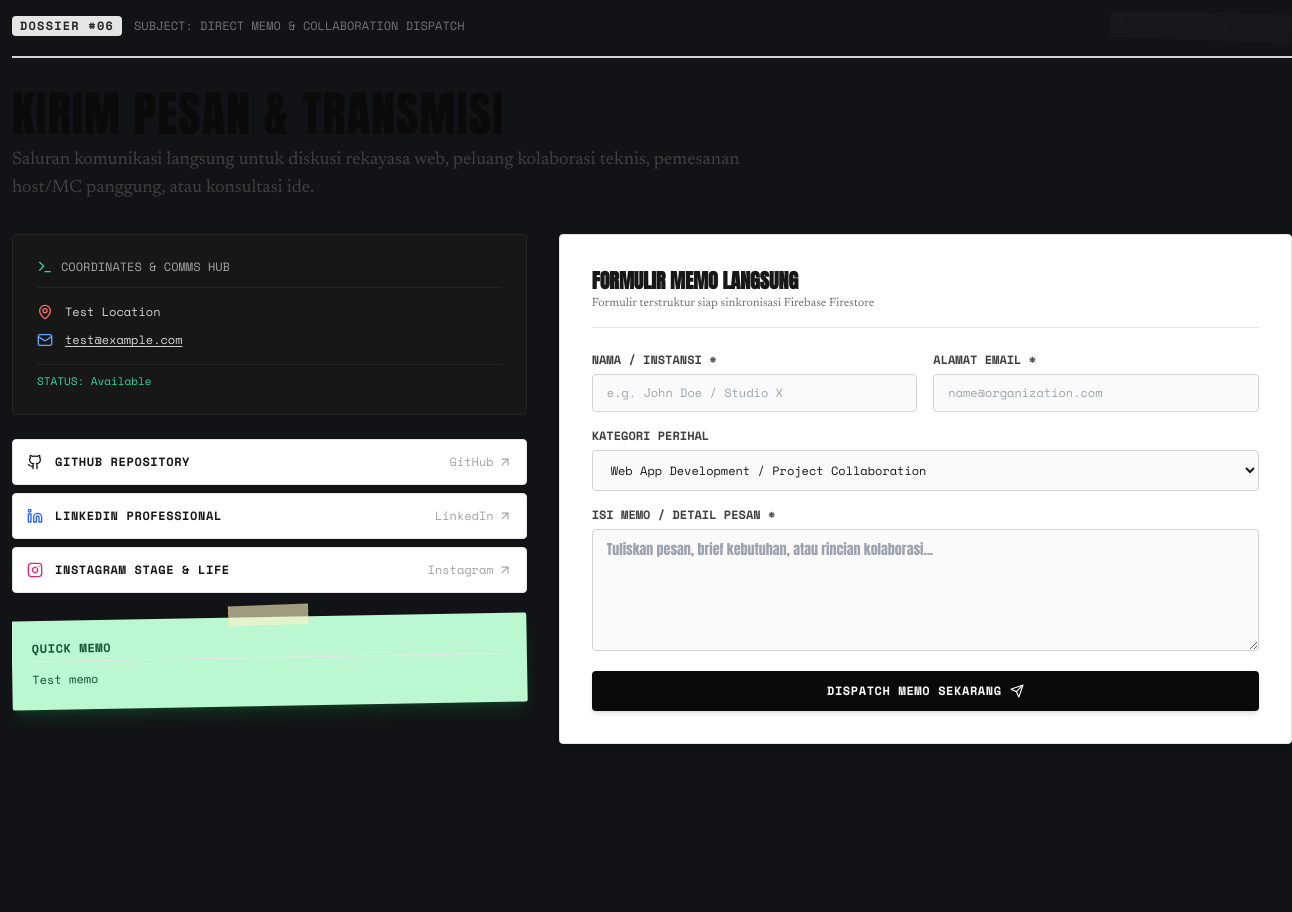
ContactSection › displays API error message when submission fails gracefully
# Fill out the form
In the field labelled "Nama / Instansi *": coordinates (755, 393) [592, 374, 917, 412], type "Test User"
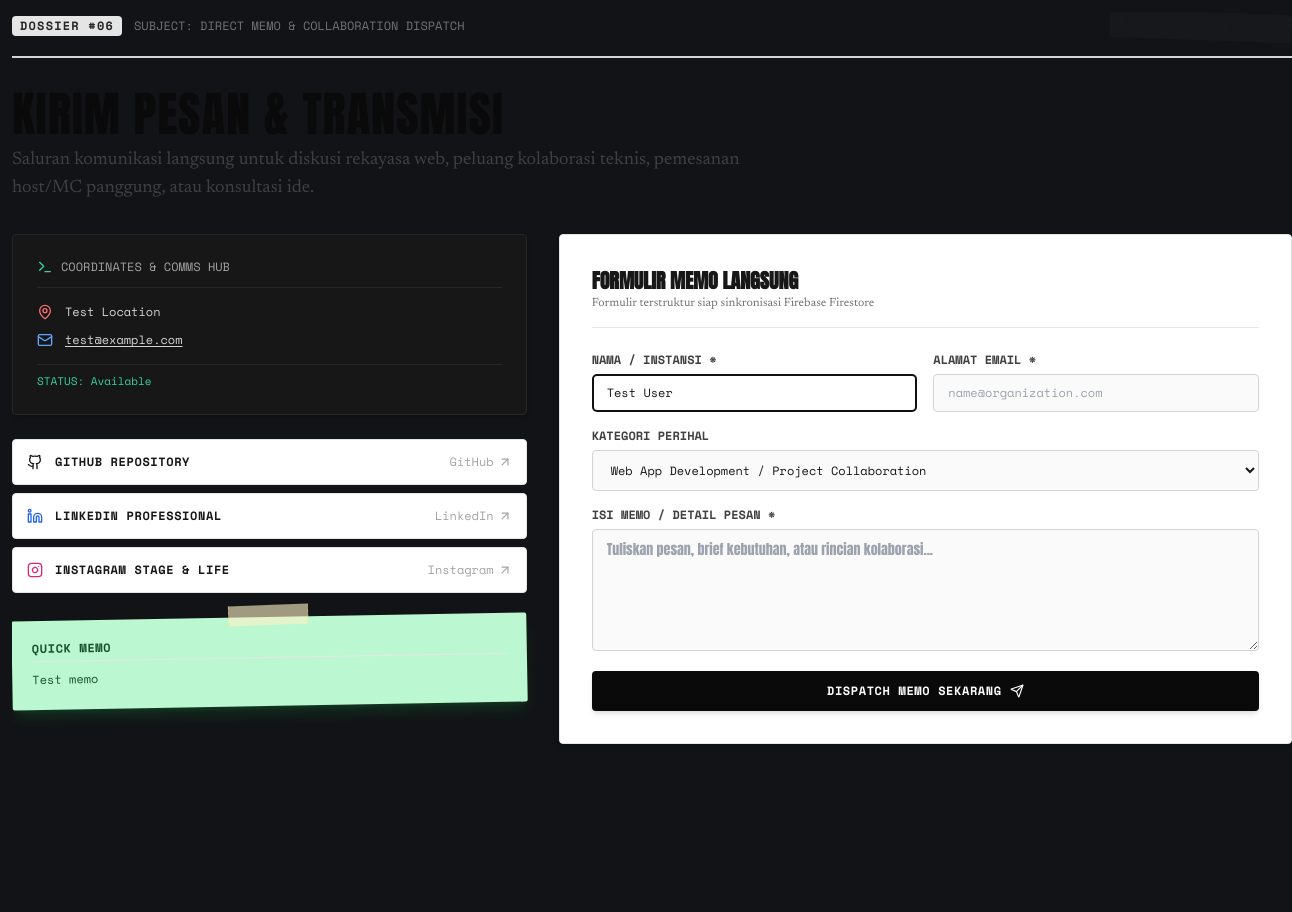
In the field labelled "Alamat Email *": coordinates (1096, 393) [933, 374, 1259, 412], type "user@test.com"
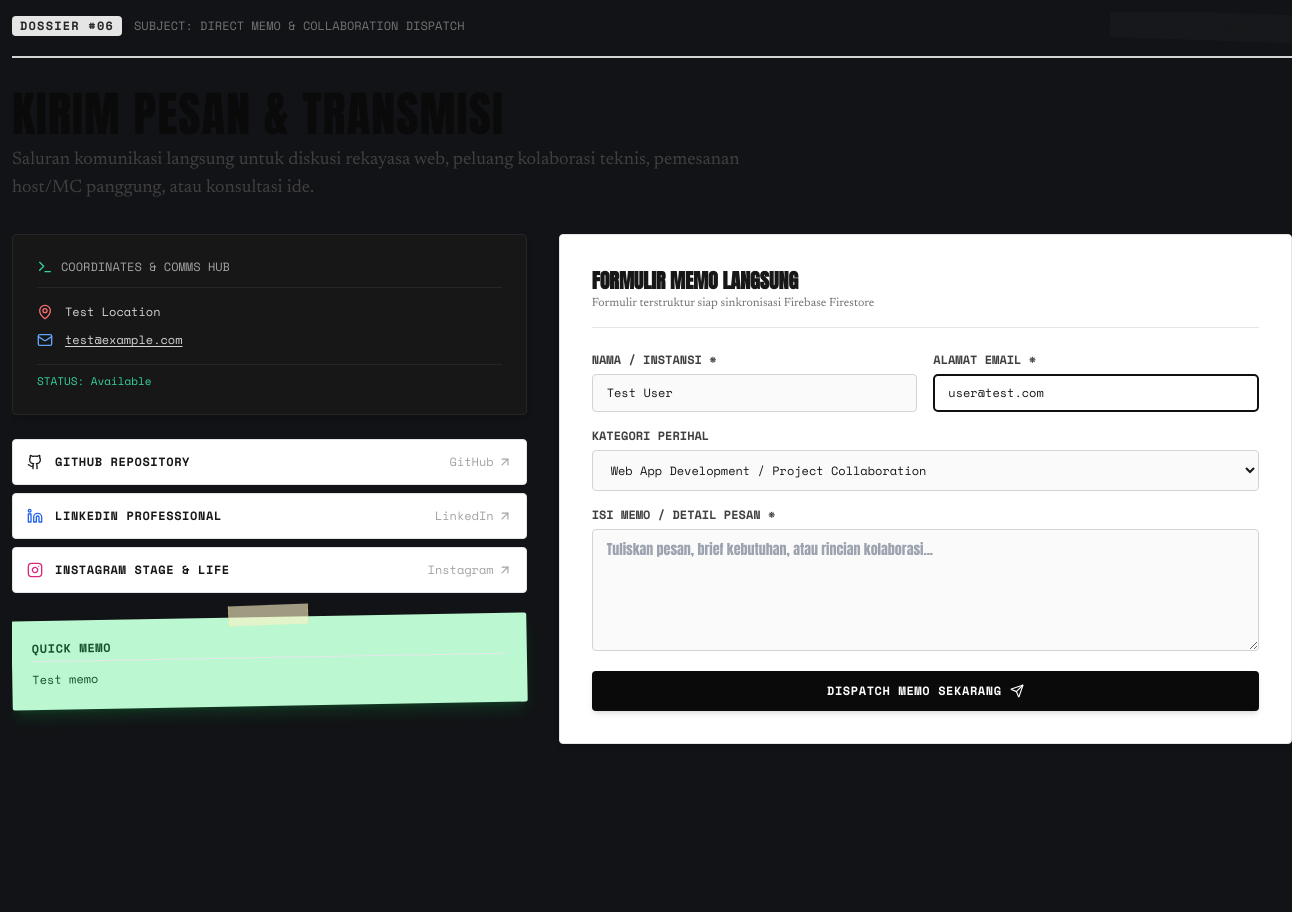
In the text box labelled "Isi Memo / Detail Pesan *": coordinates (925, 590) [592, 529, 1259, 651], type "This is a test message"
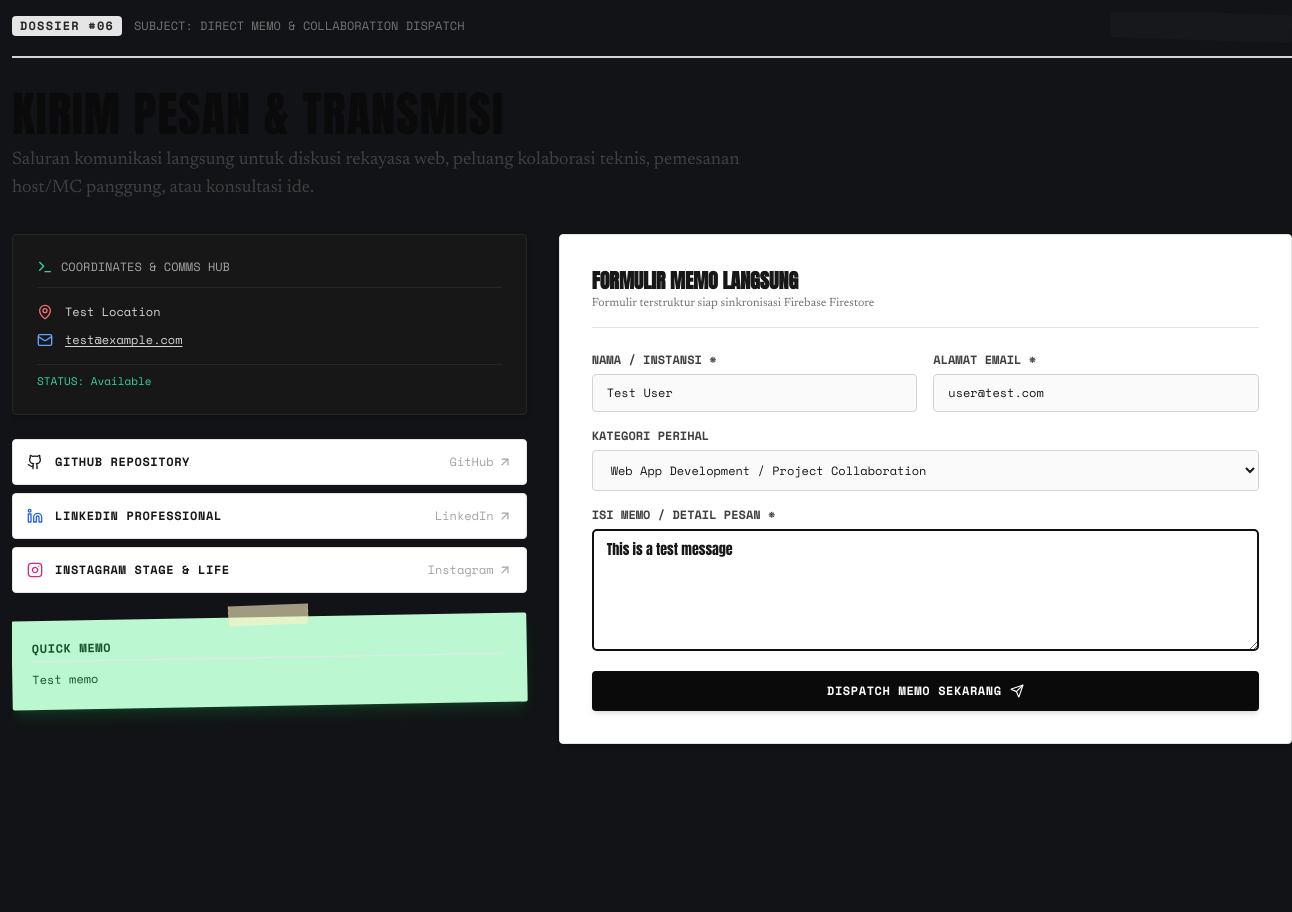
# Submit form
Click the button "DISPATCH MEMO SEKARANG": coordinates (925, 691) [592, 671, 1259, 711]
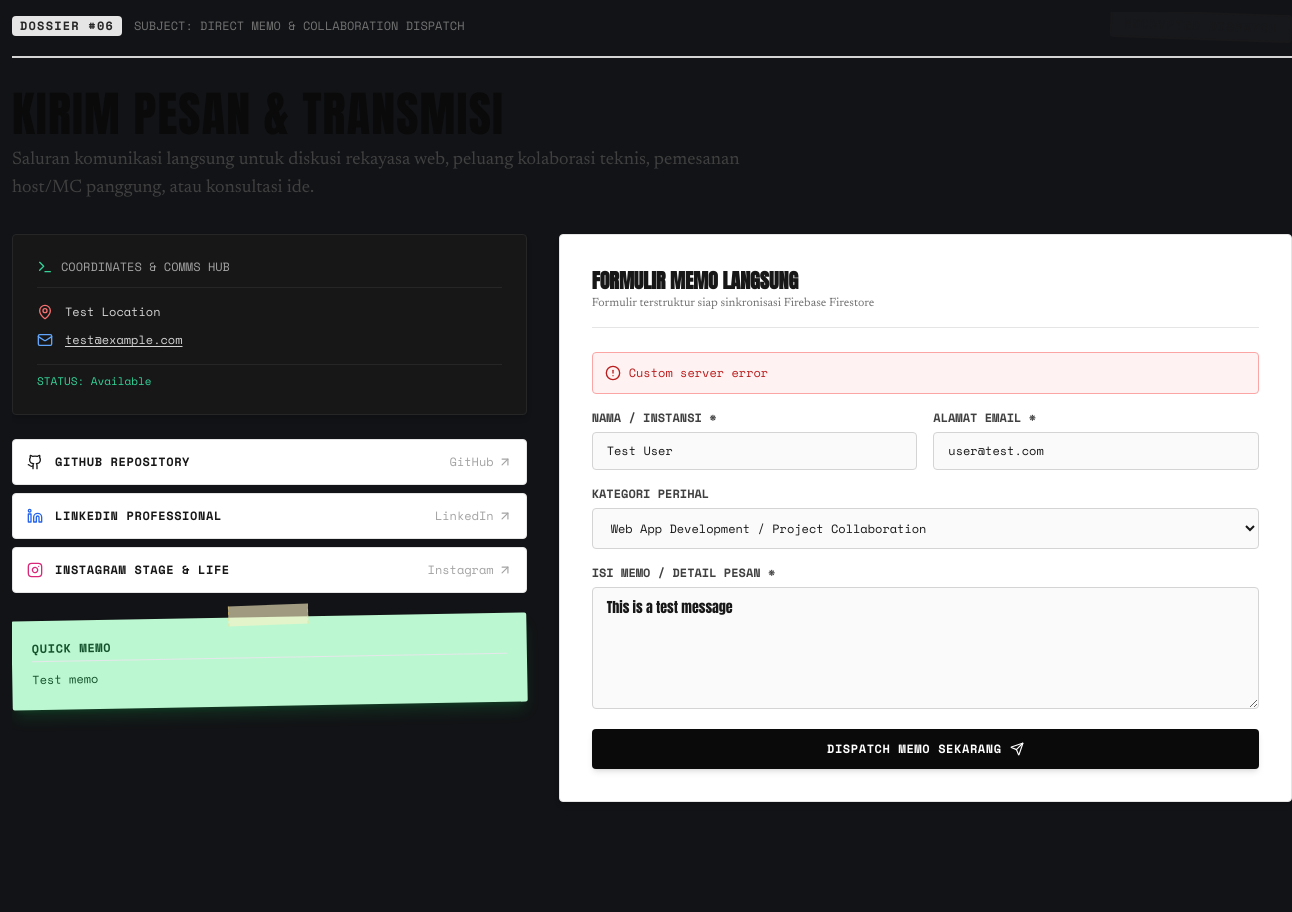
expect the text "Custom server error" is shown: met, box [629, 365, 768, 381]
